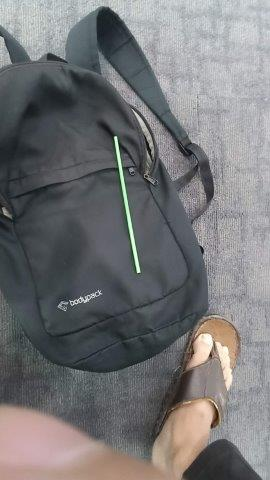sedotan: (114, 137, 140, 273)
